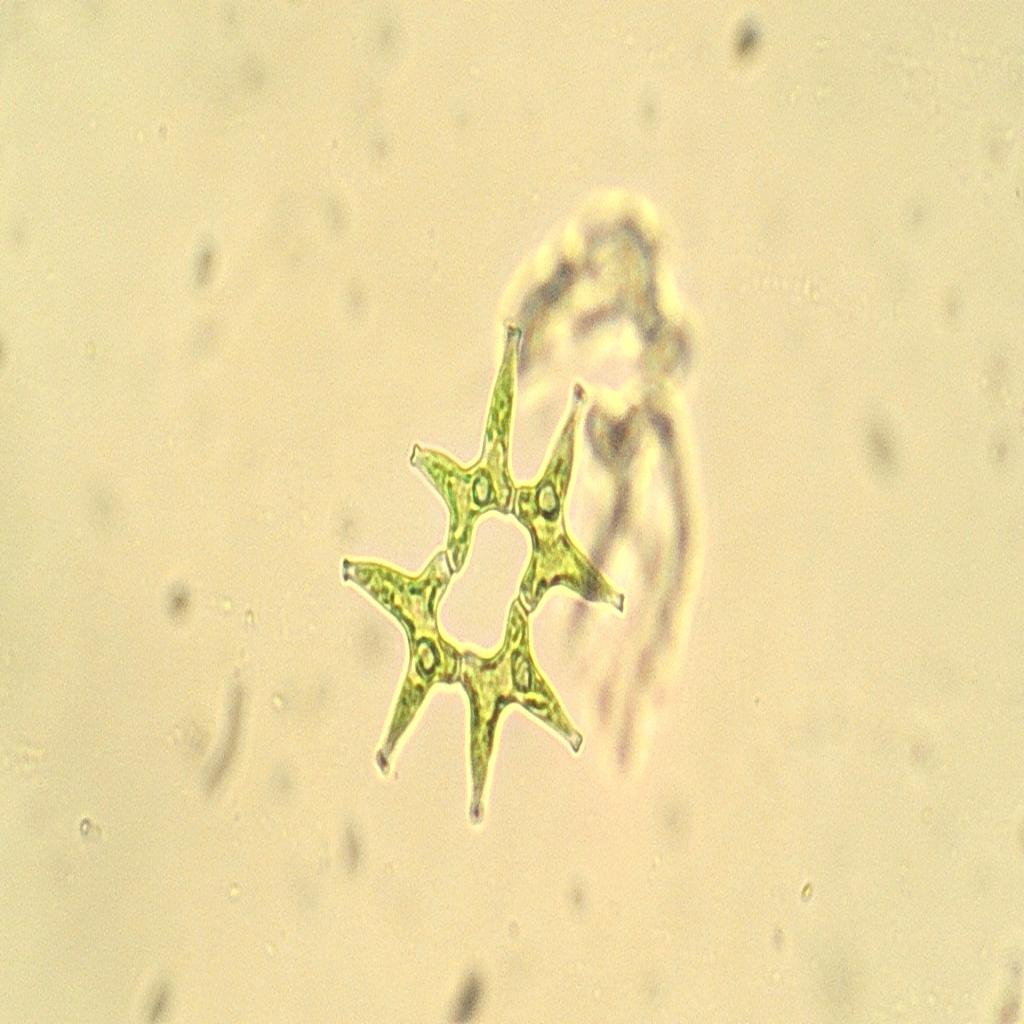Pediastrum_CO: (317, 303, 636, 830)
